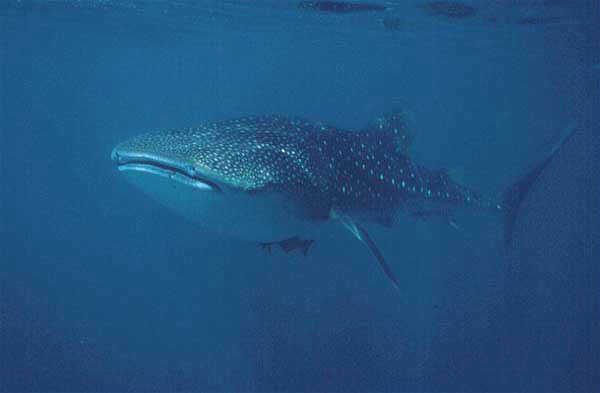Rhincodon_typusw: (96, 101, 587, 296)
